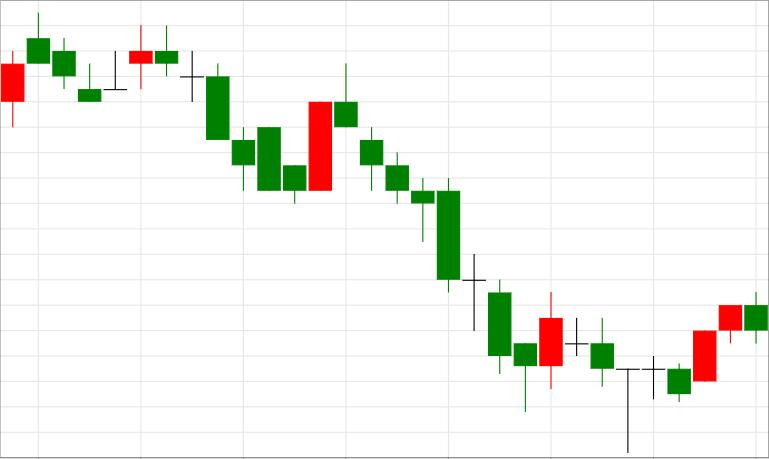hammer_rise: (334, 62, 538, 412)
